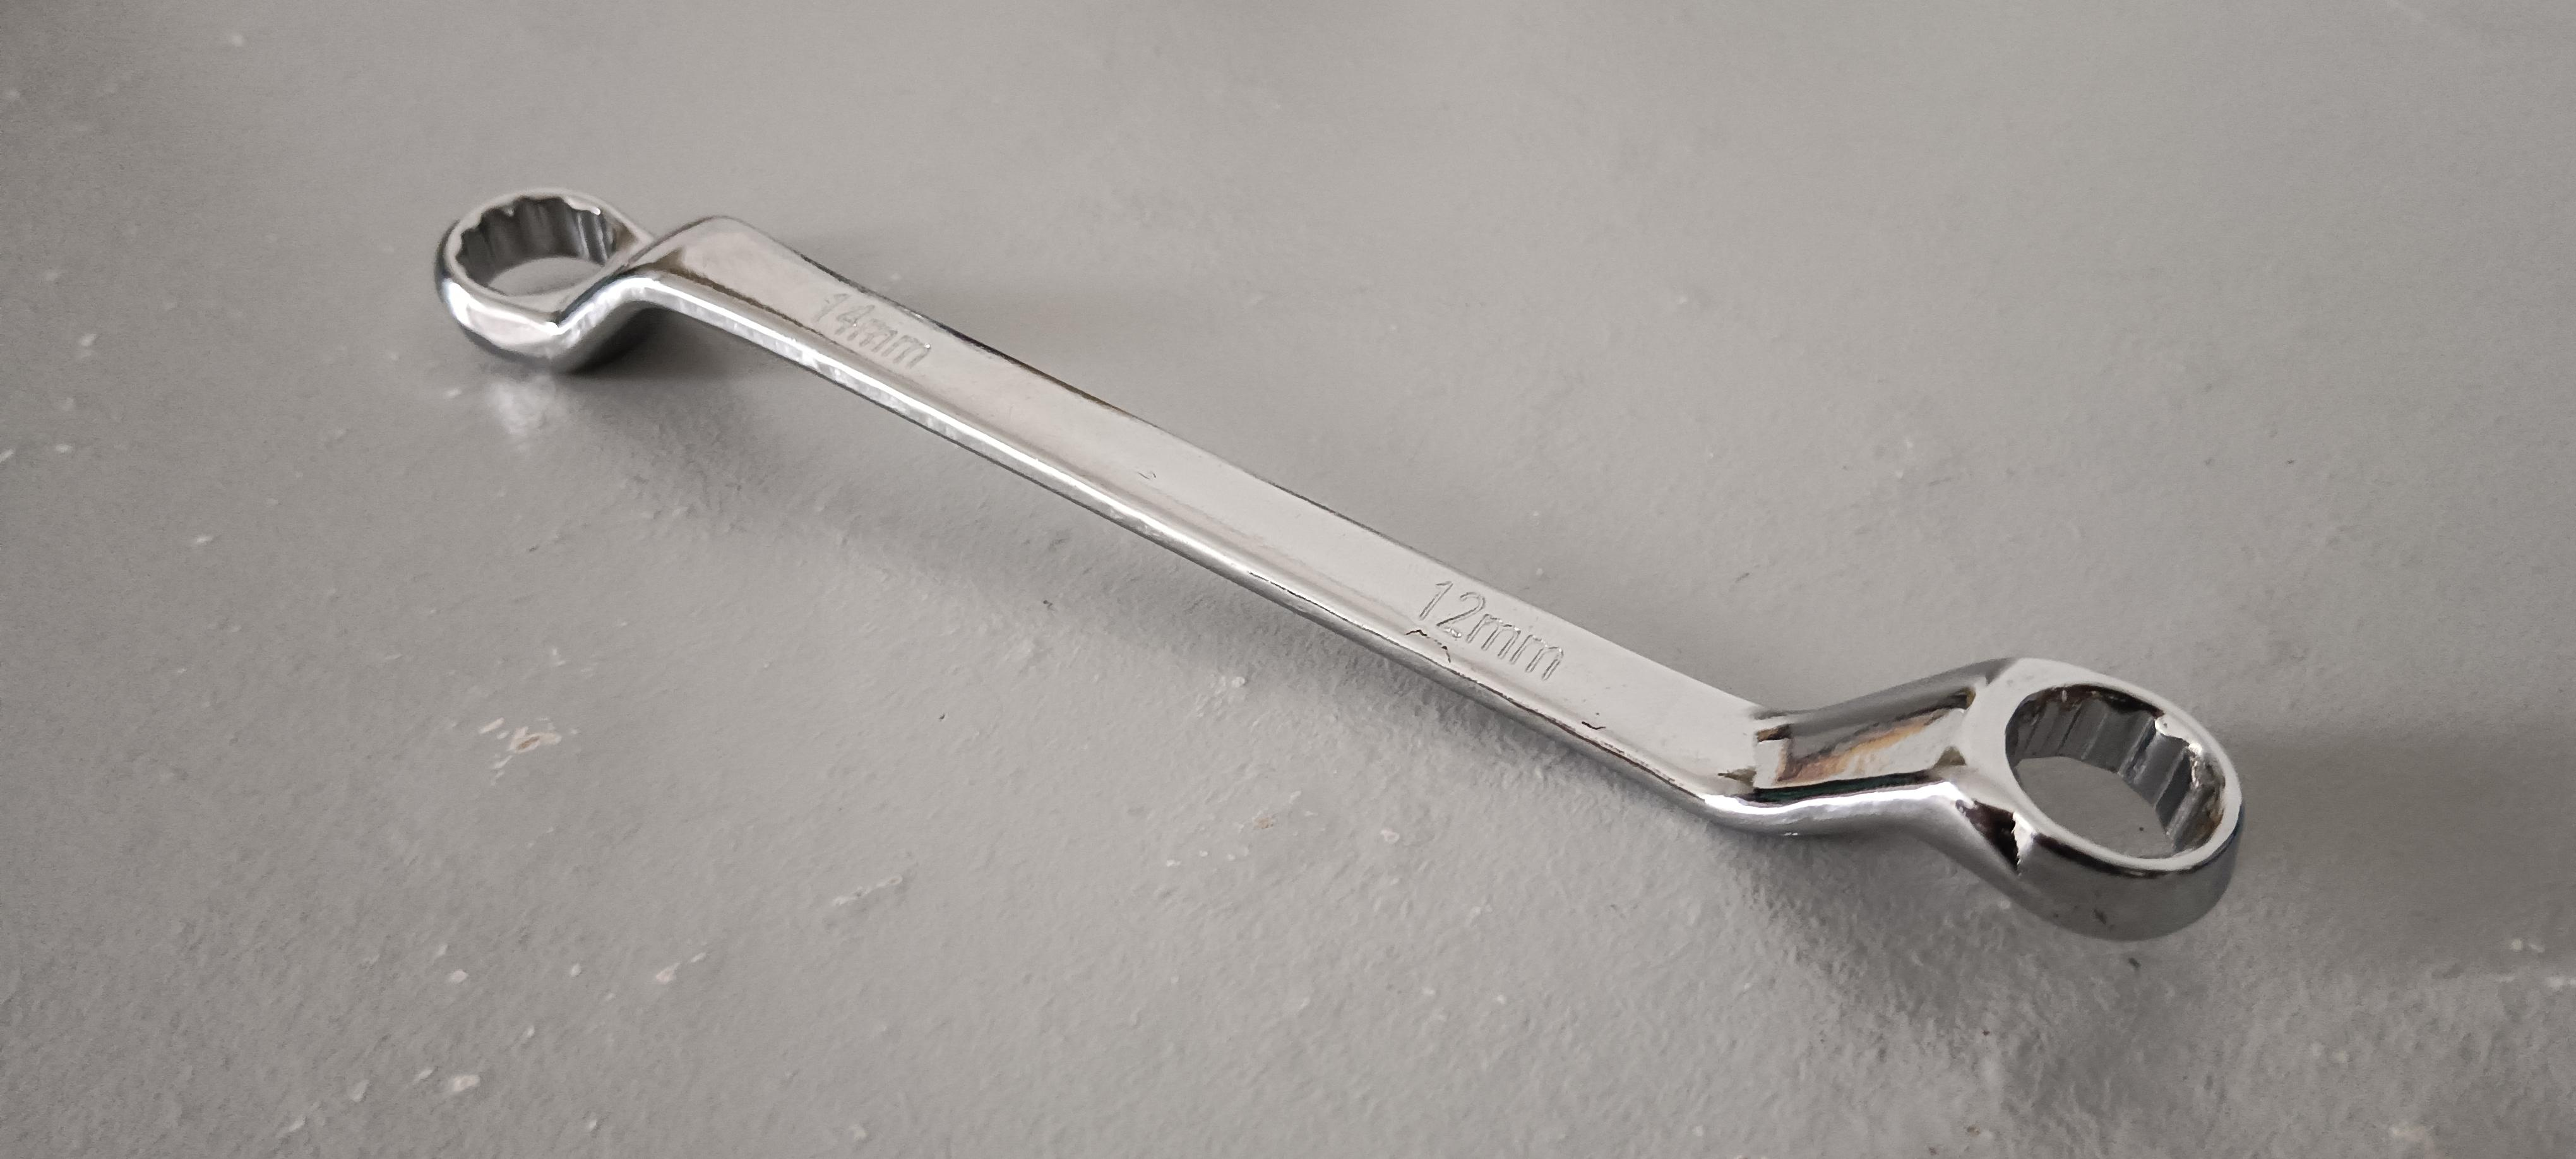Spanners: (381, 107, 2305, 1003)
